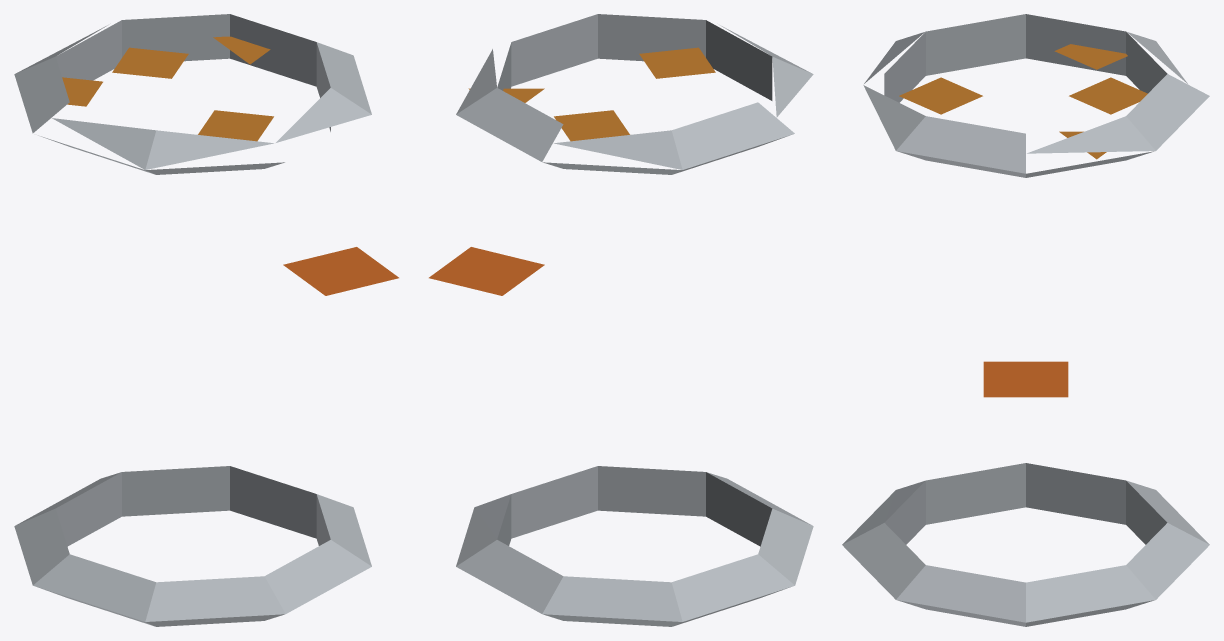
Rendered from mod-conductor.lod.glb.
3 renders of one model, left to right at view 1: azimuth 30°, elevation 25°; view 2: azimuth 150°, elevation 25°; view 3: azimuth 270°, elevation 25°, orthographic.
Visible parts, largest first — view 1: m; view 2: m; view 3: m.
Boxes of the visible parts, x1,y1,x2,y2 form: m: [14, 14, 398, 626]; m: [429, 14, 813, 626]; m: [842, 14, 1209, 626].
Size of the model in its own units: 0.05 by 0.0687 by 0.0464.
